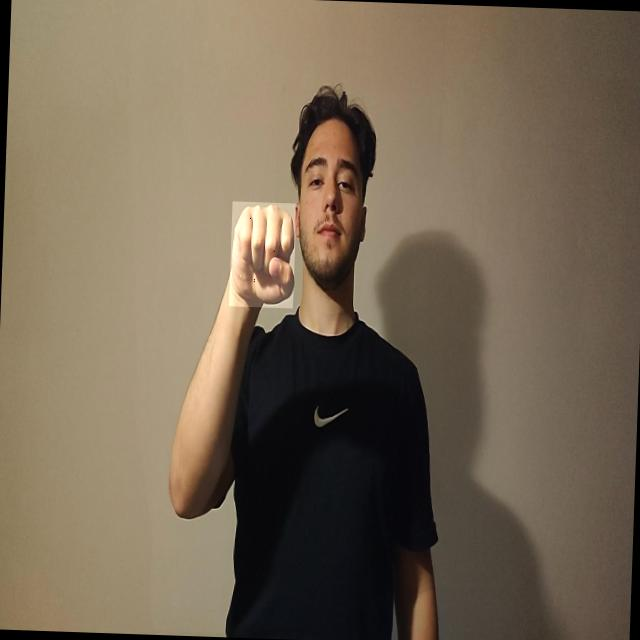yes: (228, 201, 296, 308)
